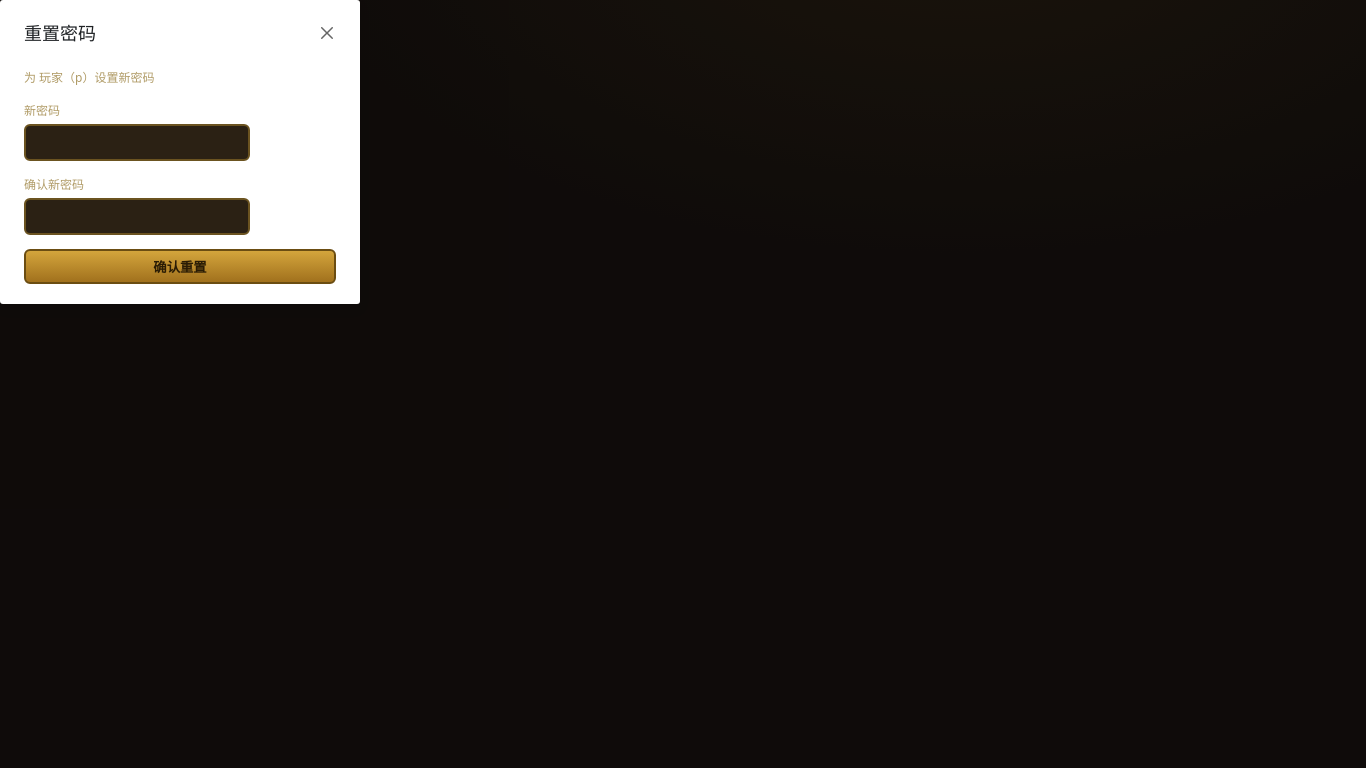
AdminResetPasswordModal › 两次密码不一致报错不调接口
Step 1. Type "abcdef" into the 1st password field → (137, 143), box [24,124,250,161]
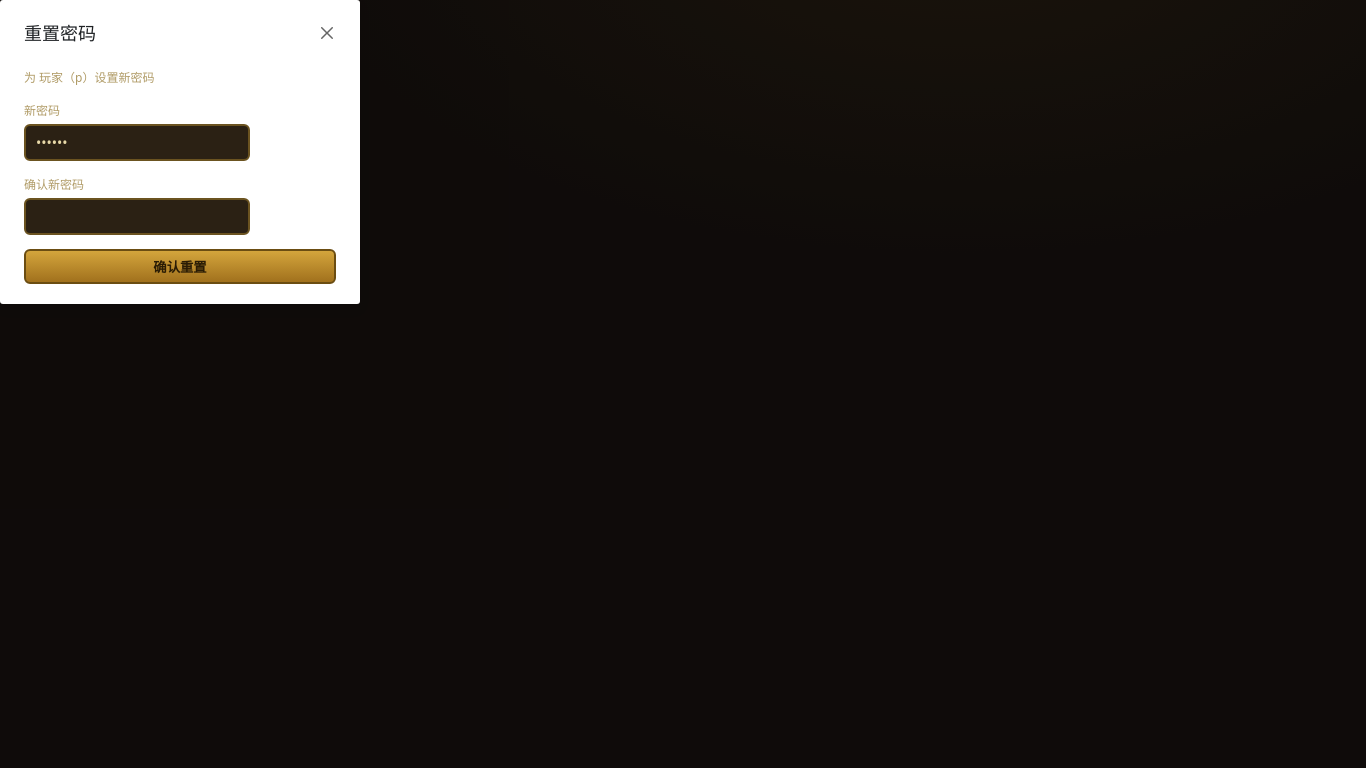
Step 2. Type "abcdefg" into the password field below "确认新密码" → (137, 217), box [24,198,250,235]
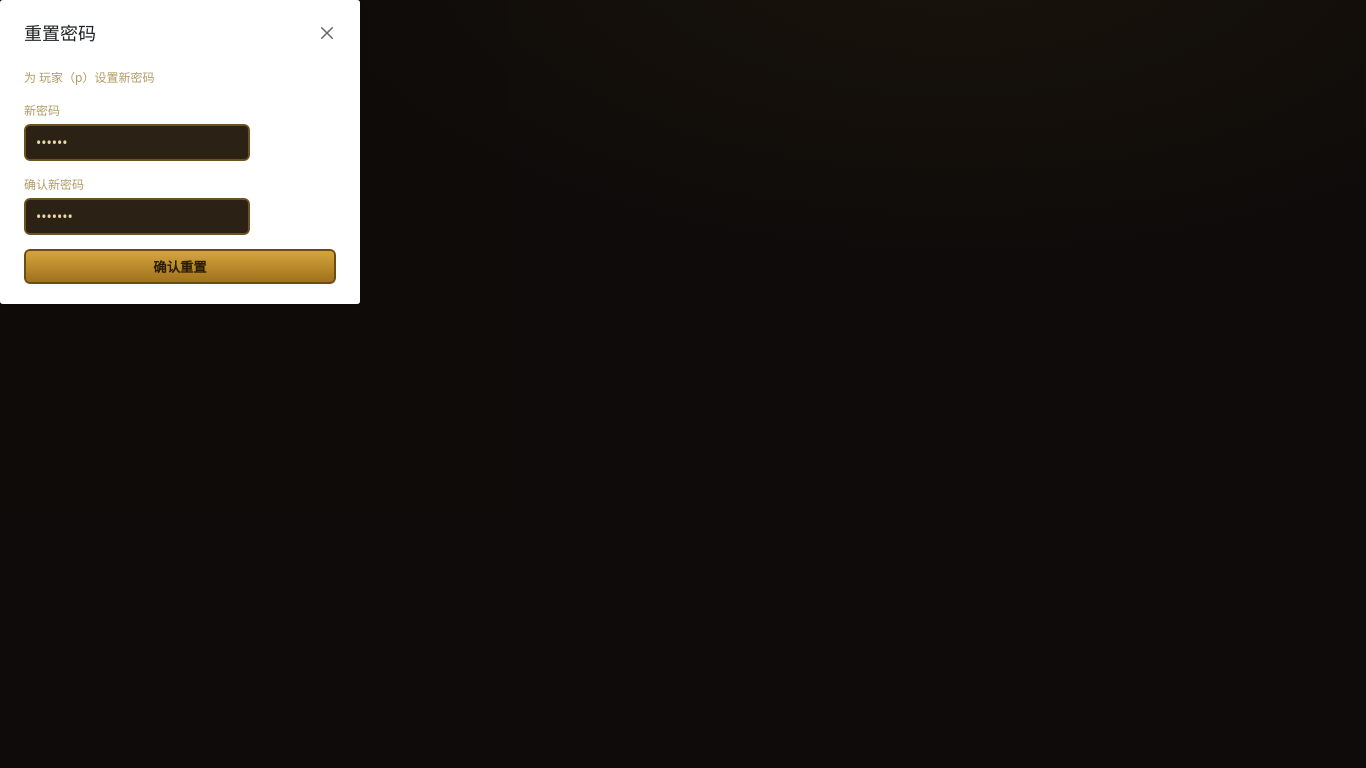
Step 3. Click the button "确认重置" → click(180, 267), box [24,249,336,284]
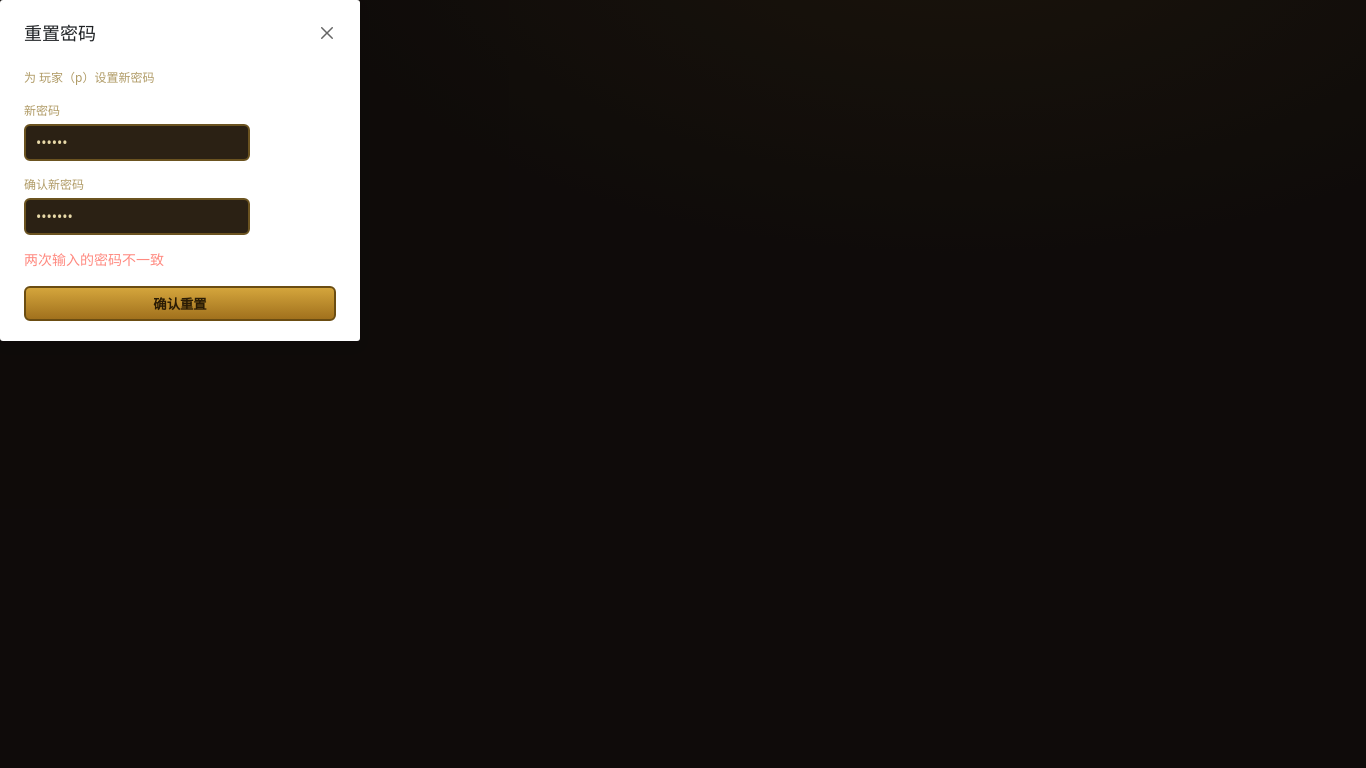
Expected: the text "两次输入的密码不一致" is shown, [24,250,164,269]
